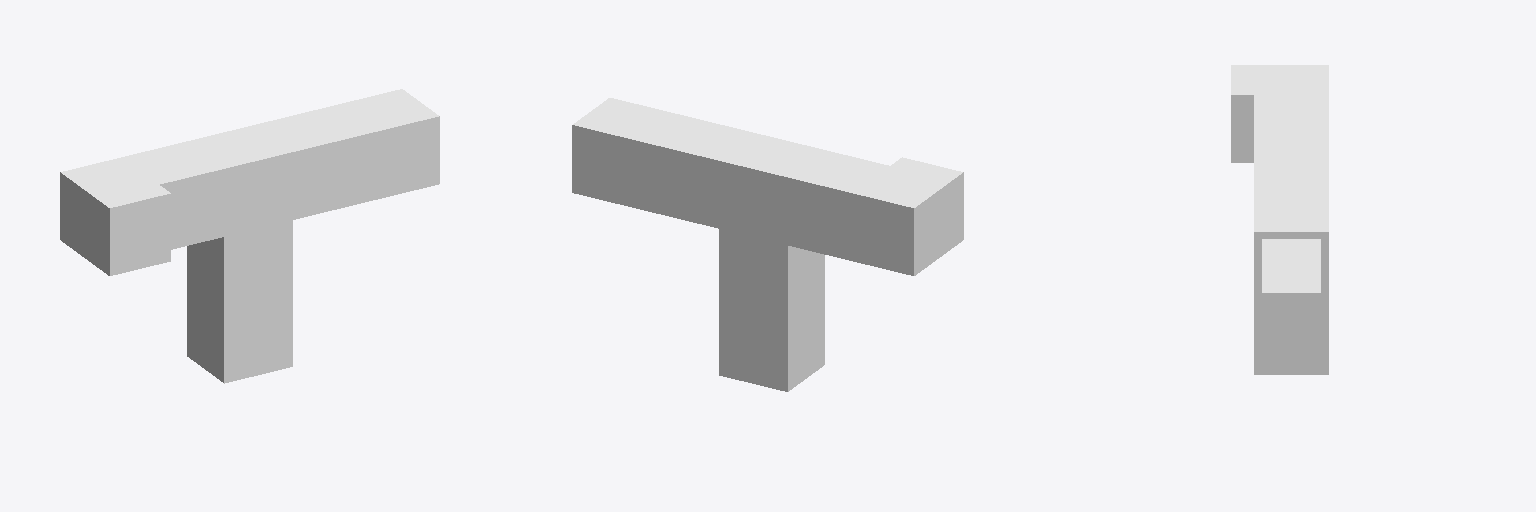
File: vent_trap.obj
3 views of the same model, side by side, from view 1: azimuth 30°, elevation 25°; view 2: azimuth 150°, elevation 25°; view 3: azimuth 270°, elevation 25° (orthographic).
Parts seen in each view (by area): view 1: object 1; view 2: object 1; view 3: object 1.
Part boxes in pixels (x1,y1,x2,y2): object 1: (60,89,439,383); object 1: (572,98,963,391); object 1: (1231,65,1328,374).
Bounding box in the file's own units: 10 × 6 × 2.5.